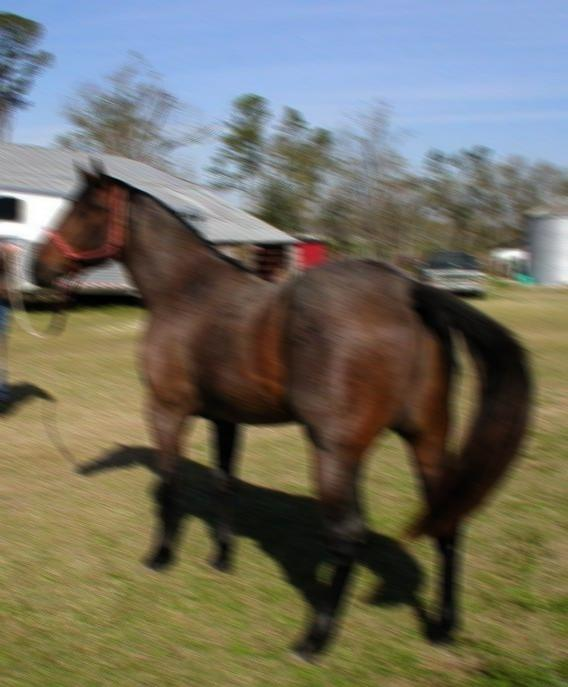horse: (26, 154, 536, 668)
